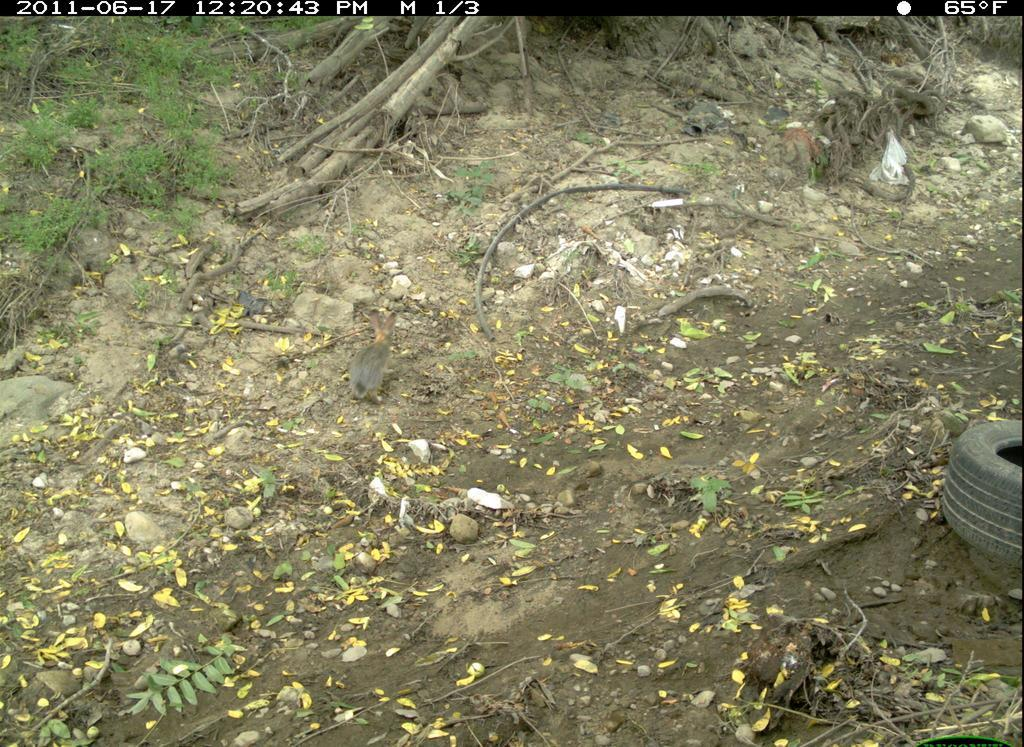rabbit: (344, 305, 414, 410)
